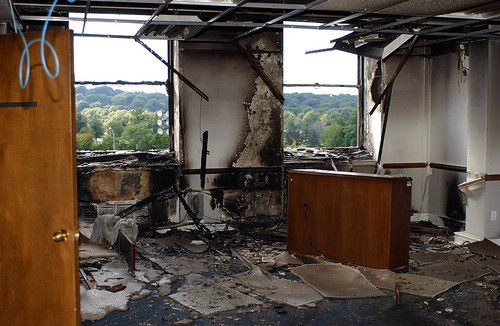building: (12, 7, 401, 275)
window: (70, 8, 179, 167), (276, 17, 370, 156)
